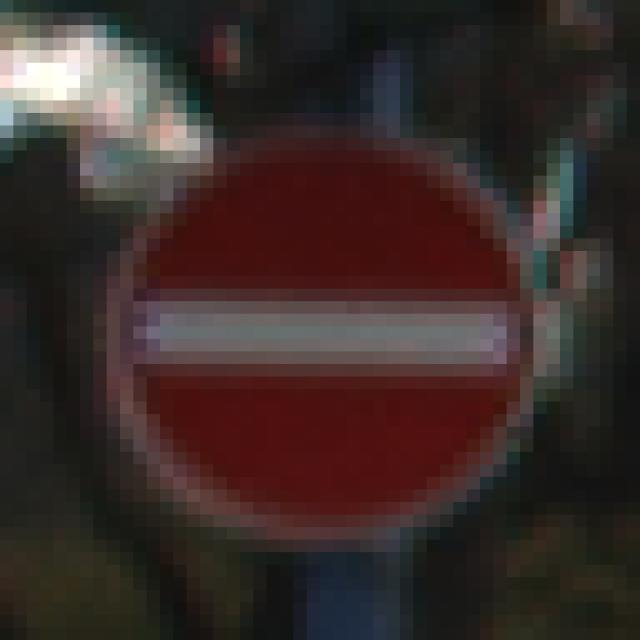No Entry: (68, 77, 574, 579)
